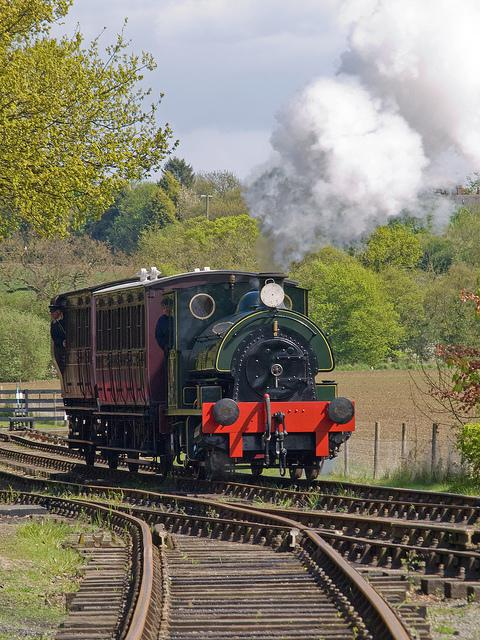Train: (45, 271, 360, 483)
